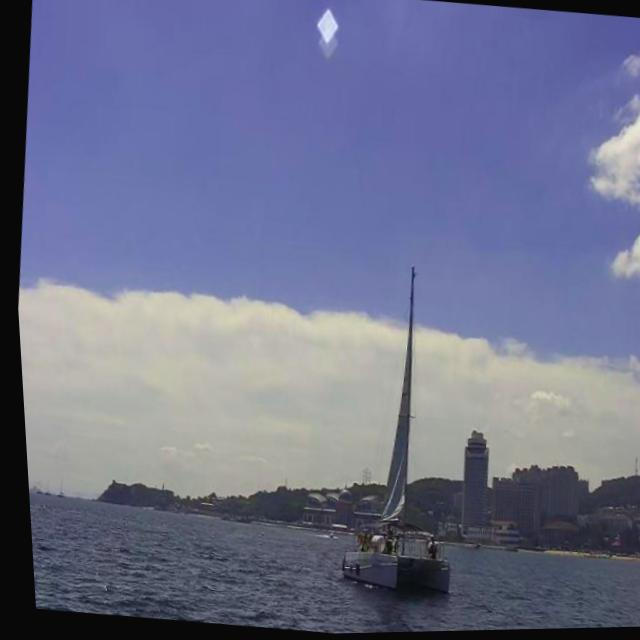ship2: (335, 269, 442, 595)
